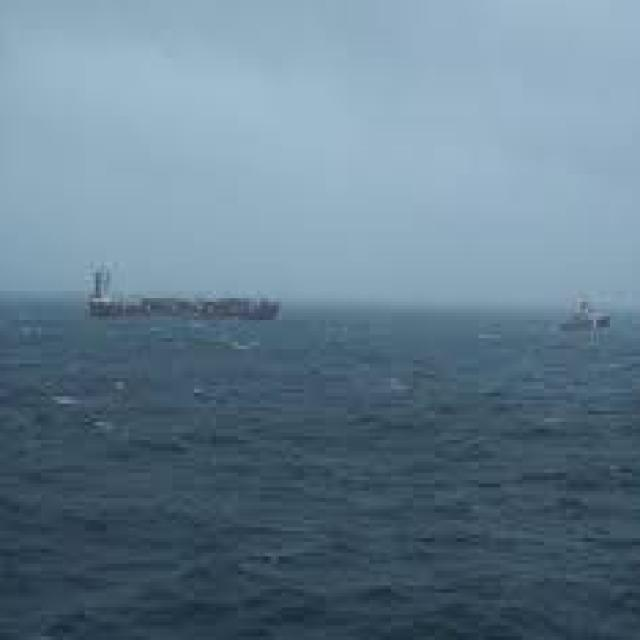cargoship: (86, 255, 282, 322)
houseboat: (563, 292, 612, 334)
